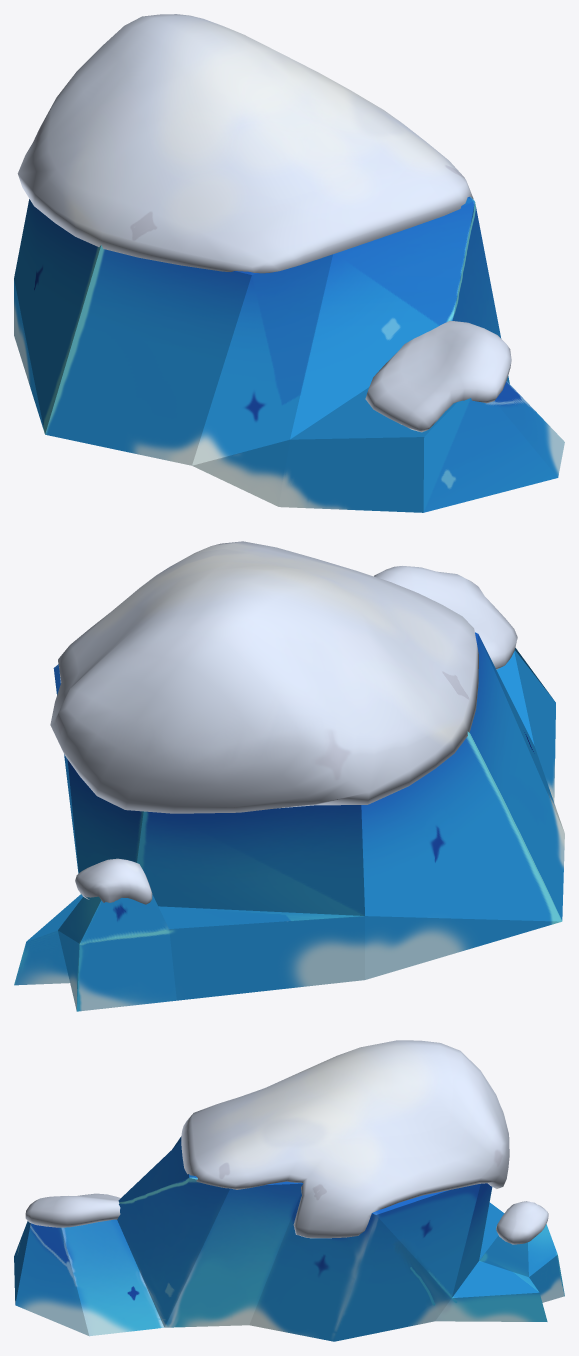
The model's file is Icy Rock.fbx.
The picture shows the model from 3 angles, top to bottom: view 1: azimuth 30°, elevation 25°; view 2: azimuth 150°, elevation 25°; view 3: azimuth 270°, elevation 25°; orthographic projection. The views are drawn at different scales.
Parts seen in each view (by area): view 1: Cube.005, Cube.006; view 2: Cube.005, Cube.006; view 3: Cube.005, Cube.006.
Boxes of the visible parts, bbox=[...] form: Cube.005: bbox=[14, 196, 564, 512]; Cube.006: bbox=[17, 14, 511, 432]; Cube.005: bbox=[14, 632, 564, 1011]; Cube.006: bbox=[50, 541, 517, 904]; Cube.005: bbox=[14, 1136, 564, 1341]; Cube.006: bbox=[25, 1040, 548, 1244].
Bounding box in the file's own units: 2.61 × 4.1 × 1.97.
